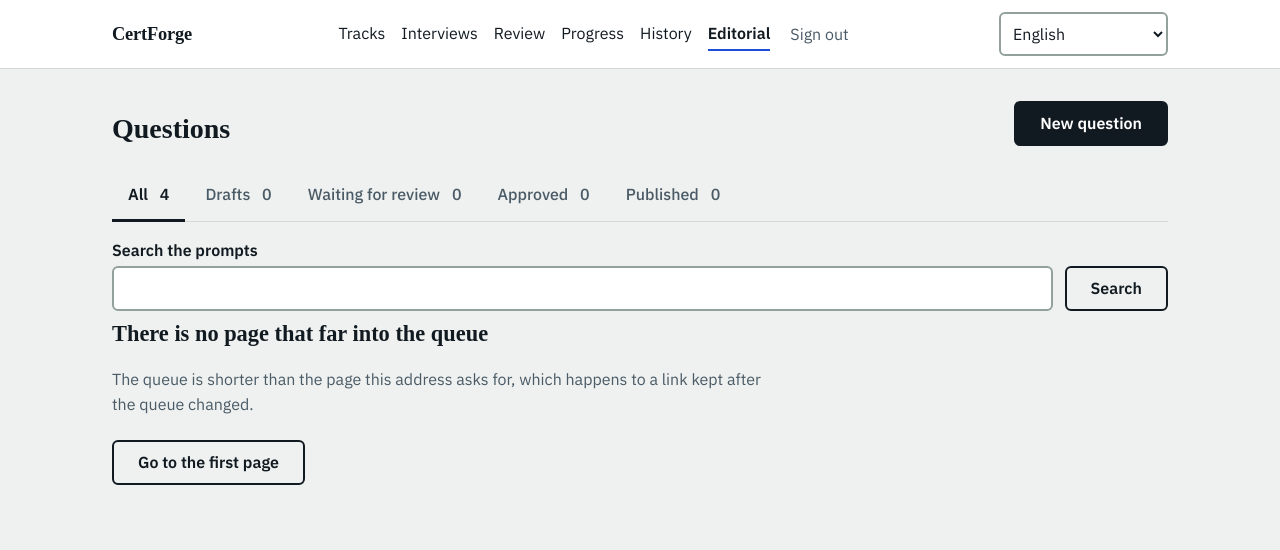
Test case: the queue › says a page is past the end rather than that the bank is empty
Check: the heading "There is no page that far into the queue" is shown, box [112, 321, 488, 346]
Click the button "Go to the first page": (208, 463) [112, 440, 305, 485]
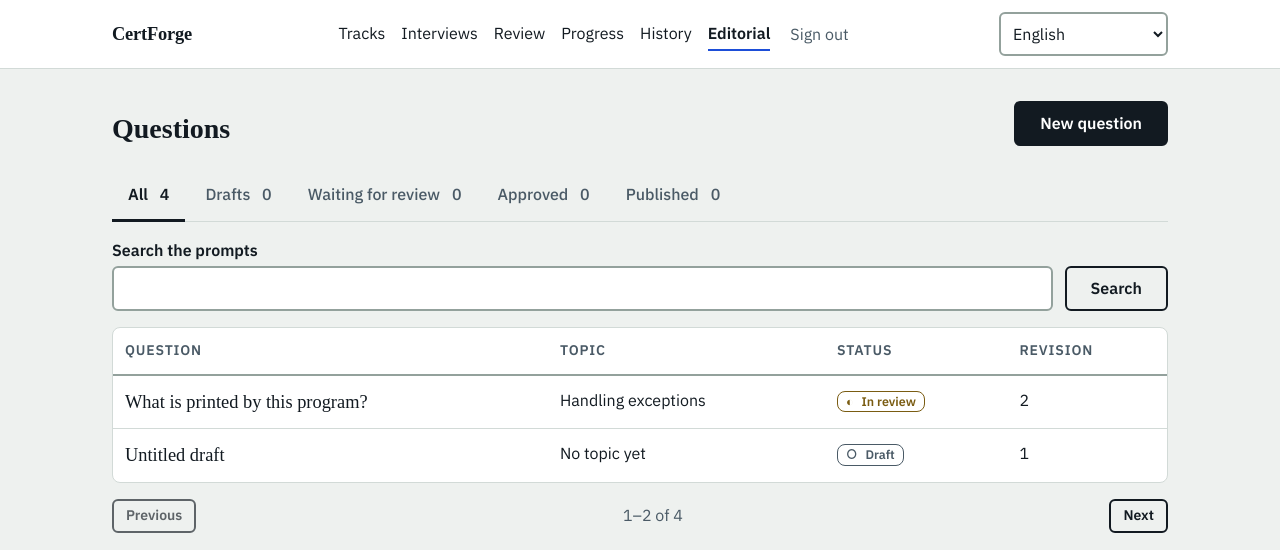
Check: the text "1–2 of 4" is shown, box [623, 503, 683, 528]
